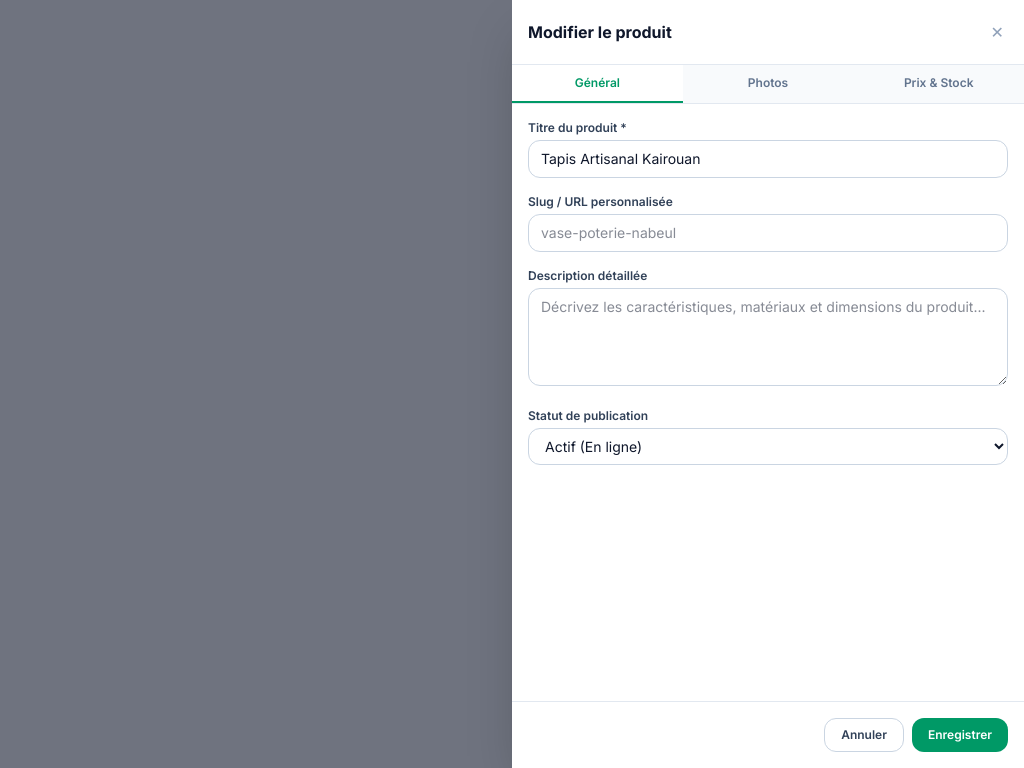
Test: PLAN-T3-04: Frontend Monolith Decomposition (Modular Products Component Tree) › renders product drawer tabs and handles form input
This screenshot has width=1024, height=768.
Expected: the heading "Modifier le produit" is shown, [528,20,672,44]
# Switch to Photos tab
Step 1. Click the button "Photos" → {"x": 768, "y": 84}, box [683,65,853,103]
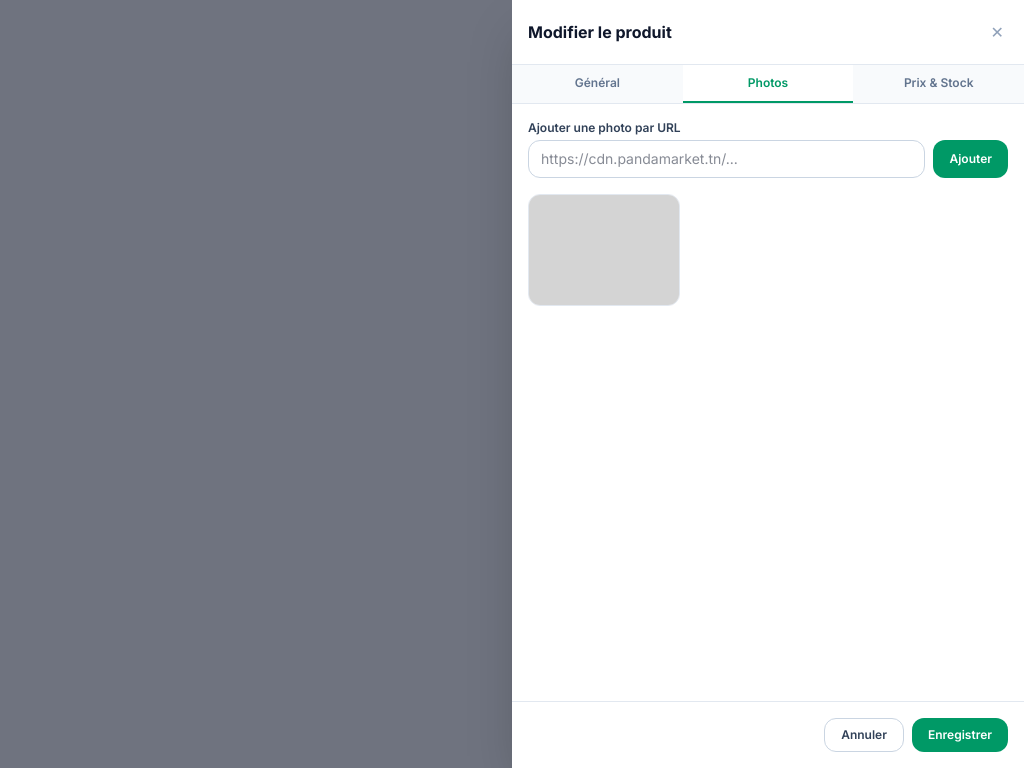
Now the text "Ajouter une photo par URL" is shown, box [528,120,681,135]
# Switch to Prix & Stock tab
Step 2. Click the button "Prix & Stock" → {"x": 939, "y": 84}, box [853,65,1023,103]
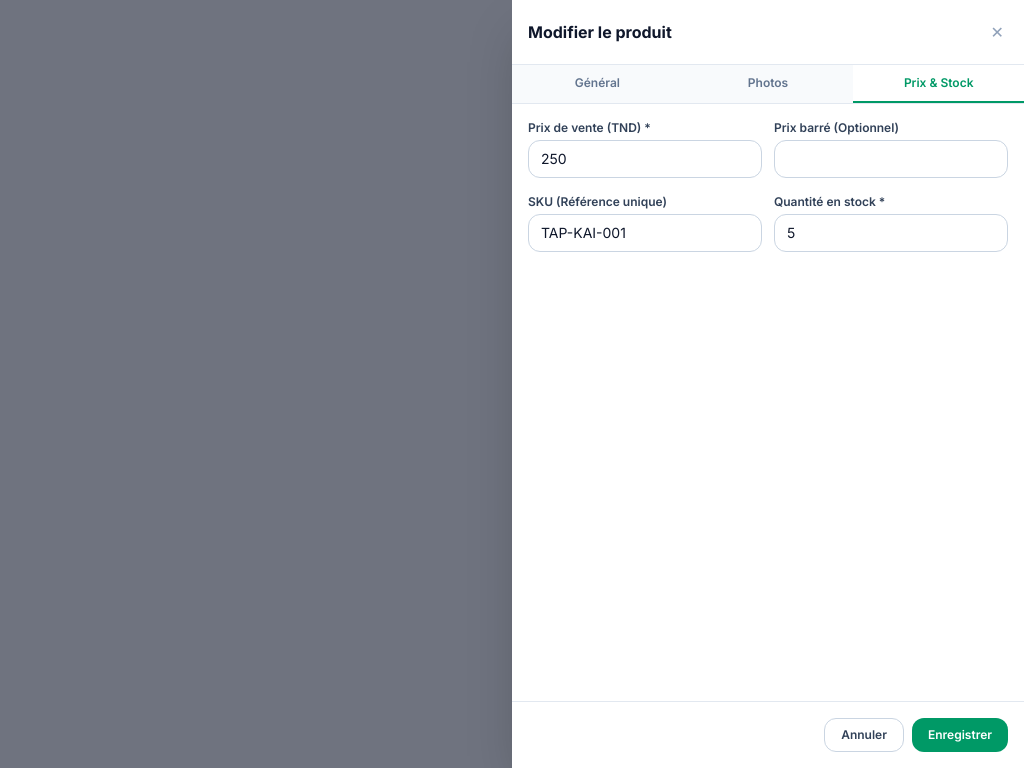
Now the text "Quantité en stock *" is shown, box [774,194,885,209]
